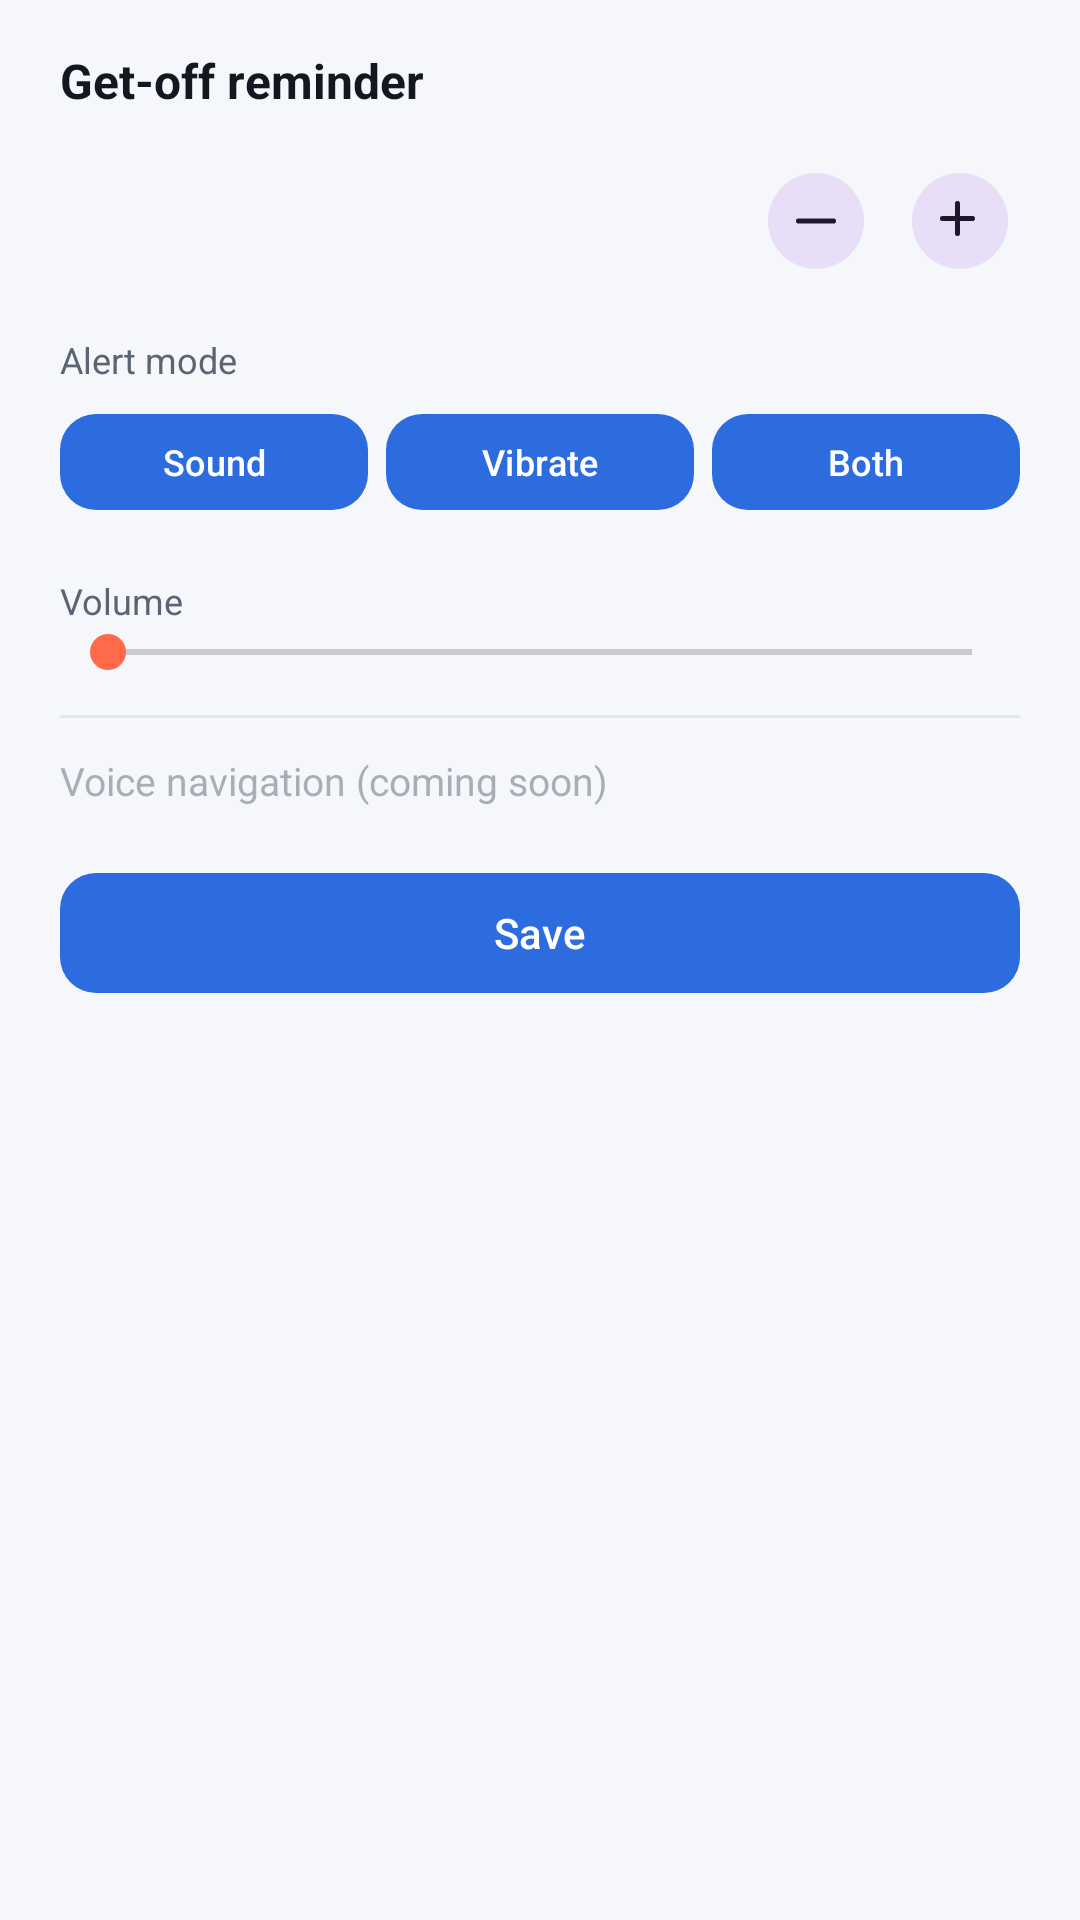

Where to tap for icons on this 1080×1920 app screen, as point (x, y):
Fewer stops before: point (816, 221)
More stops before: point (960, 221)
